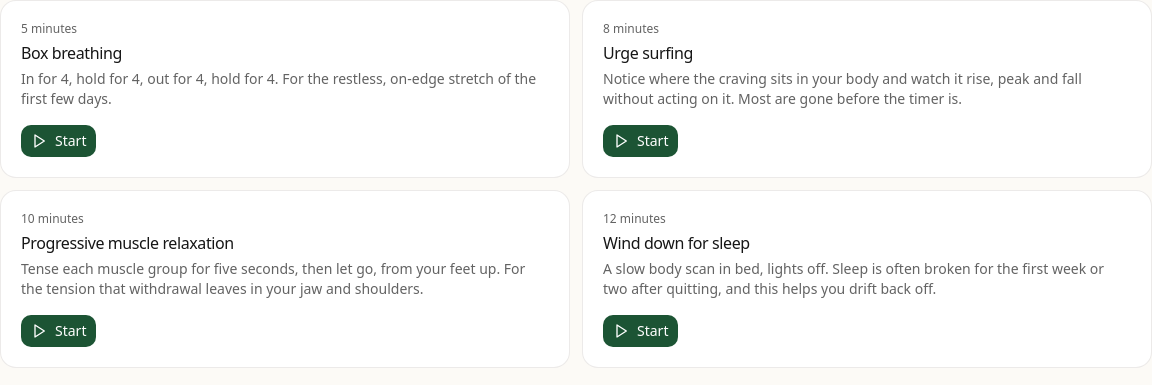
Scenario: RelaxationPreview › says when the session is over
Click the button "Start" below "Box breathing" at (59, 141), box [21,125,96,157]
Wait 300000 ms
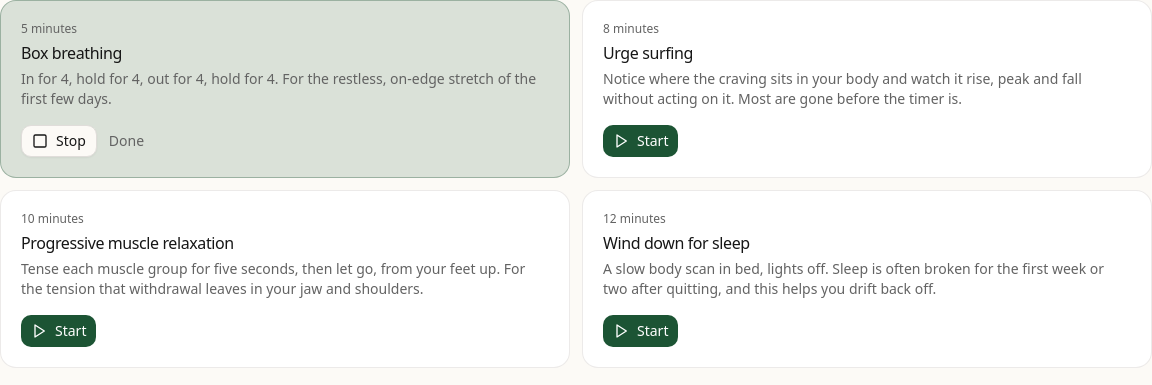
Now the text "Done" is shown, box [109,131,144,151]
